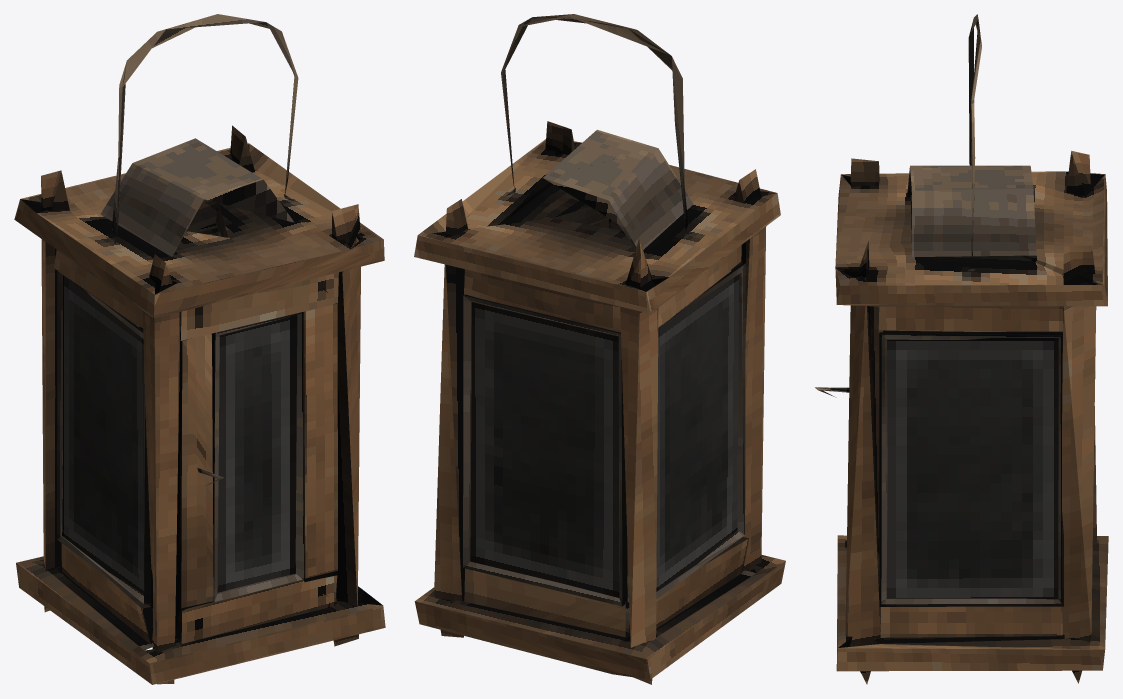
File: wooden_lantern_01.glb
The picture shows the model from 3 angles, left to right: view 1: azimuth 30°, elevation 25°; view 2: azimuth 150°, elevation 25°; view 3: azimuth 270°, elevation 25°; orthographic projection.
Visible parts, largest first — view 1: wooden_lantern_01; view 2: wooden_lantern_01; view 3: wooden_lantern_01.
Part boxes in pixels (left/top/right/bottom): wooden_lantern_01: left=14, top=14, right=385, bottom=684; wooden_lantern_01: left=414, top=14, right=785, bottom=684; wooden_lantern_01: left=815, top=14, right=1108, bottom=684.
Bounding box in the file's own units: 0.2165 × 0.5299 × 0.2349.
2 materials, 2 textured.
